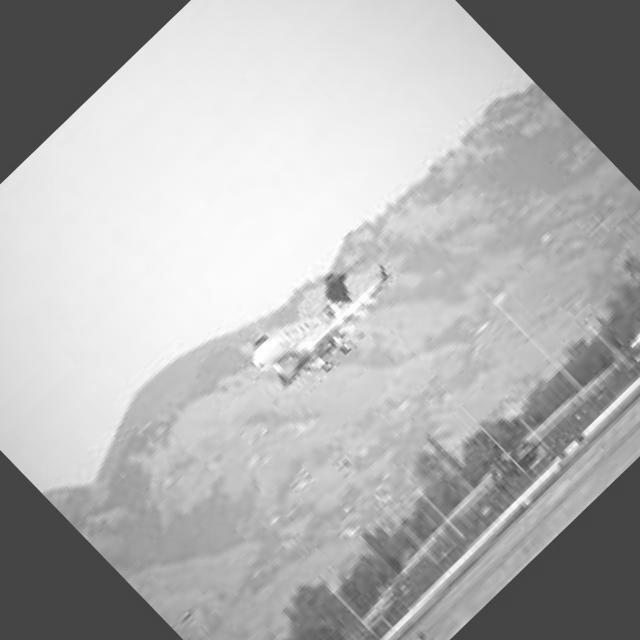aeroplane: (225, 216, 424, 413)
